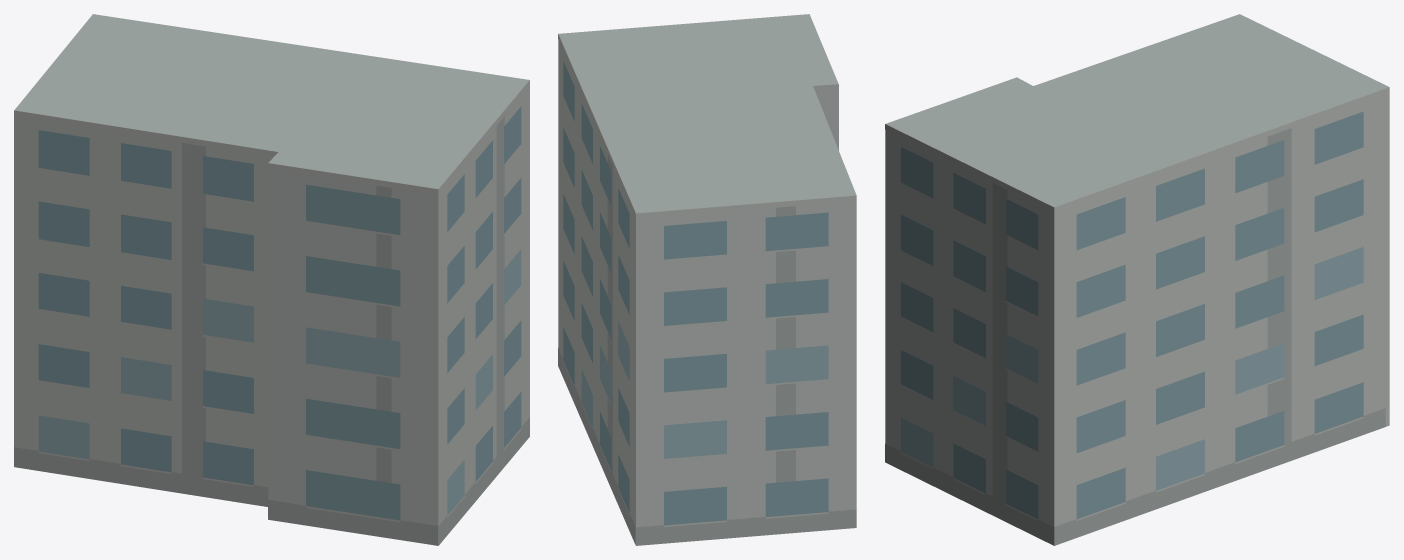
Rendered from survey-upis-32792017.glb.
The picture shows the model from 3 angles, left to right: view 1: azimuth 30°, elevation 25°; view 2: azimuth 150°, elevation 25°; view 3: azimuth 270°, elevation 25°; orthographic projection. The views are drawn at different scales.
Parts seen in each view (by area): view 1: survey-upis-32792017.tmp; view 2: survey-upis-32792017.tmp; view 3: survey-upis-32792017.tmp.
Boxes of the visible parts, <box> form: survey-upis-32792017.tmp: <box>14,14,529,545</box>; survey-upis-32792017.tmp: <box>558,14,856,545</box>; survey-upis-32792017.tmp: <box>885,14,1389,545</box>.
Size of the model in its own units: 17.55 by 14.3 by 19.33.
